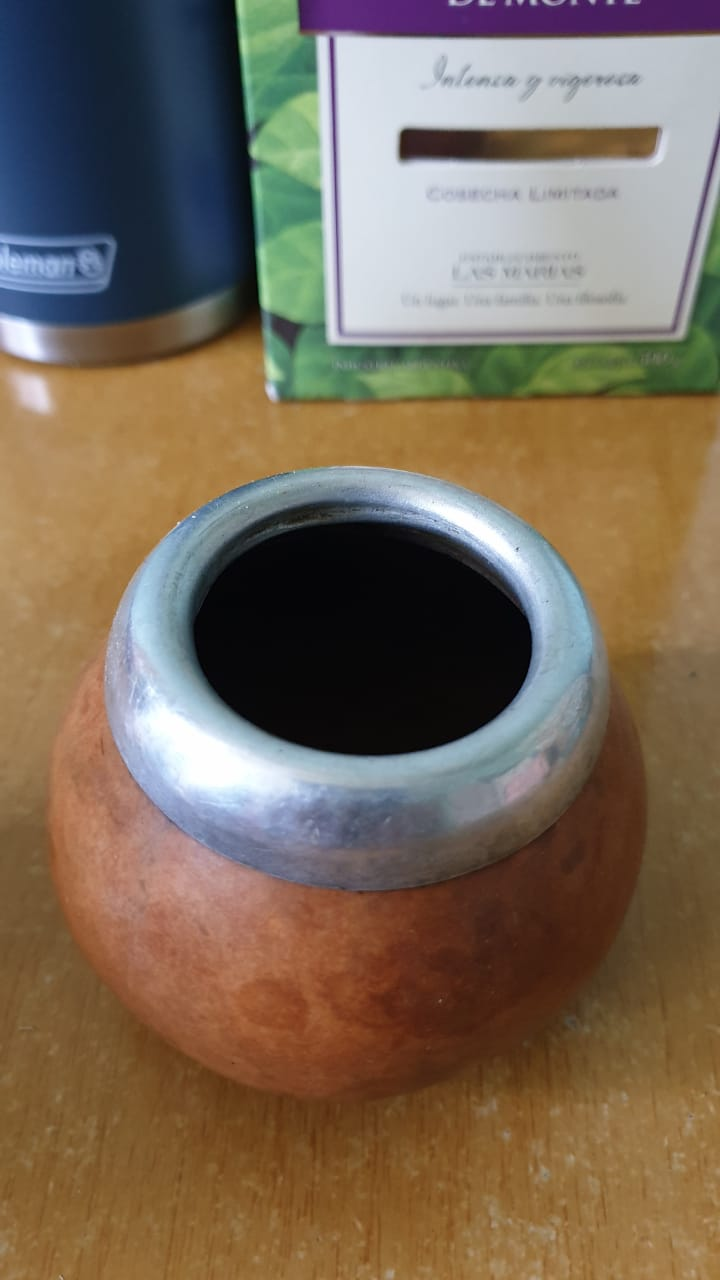calabaza: (53, 444, 665, 1124)
mate: (52, 444, 674, 1138)
